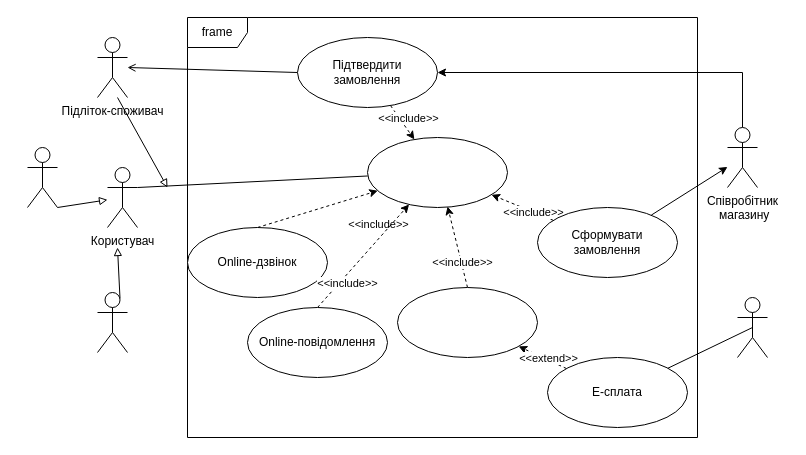
This 806x455 diagram has some shape labels left out. Here are the shapes that lost their labels. From the top down, the centre of each, then its label:
[42,177]: психолог
[437,172]: Авторизувати користувача
[112,322]: Вчитель танців
[467,322]: Сплатити послугу
[752,327]: Сервіс Е-Pay
